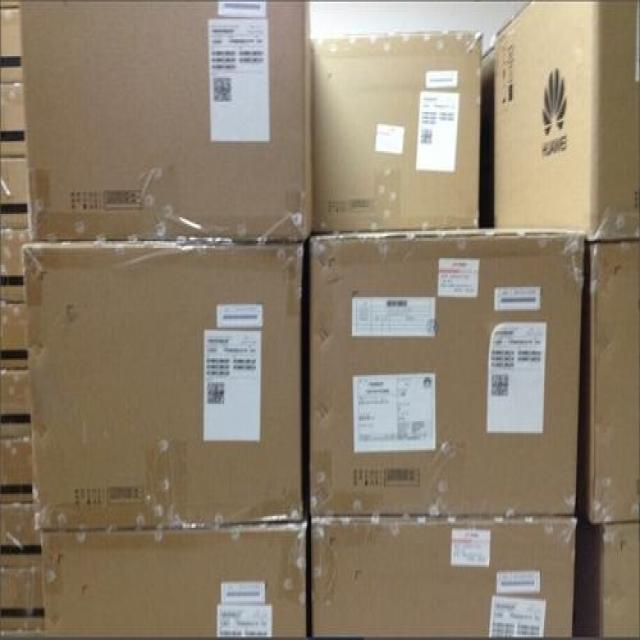box: (22, 241, 305, 531), (310, 227, 586, 518), (18, 0, 312, 243), (494, 0, 640, 241), (312, 31, 483, 234), (311, 518, 576, 638), (40, 526, 306, 640), (576, 239, 640, 525), (572, 508, 640, 640), (0, 553, 44, 609), (481, 48, 494, 226), (0, 494, 41, 545), (0, 423, 32, 487), (0, 214, 29, 277), (0, 141, 28, 205), (0, 285, 27, 351), (0, 360, 29, 416), (0, 68, 24, 132), (0, 616, 45, 640)
